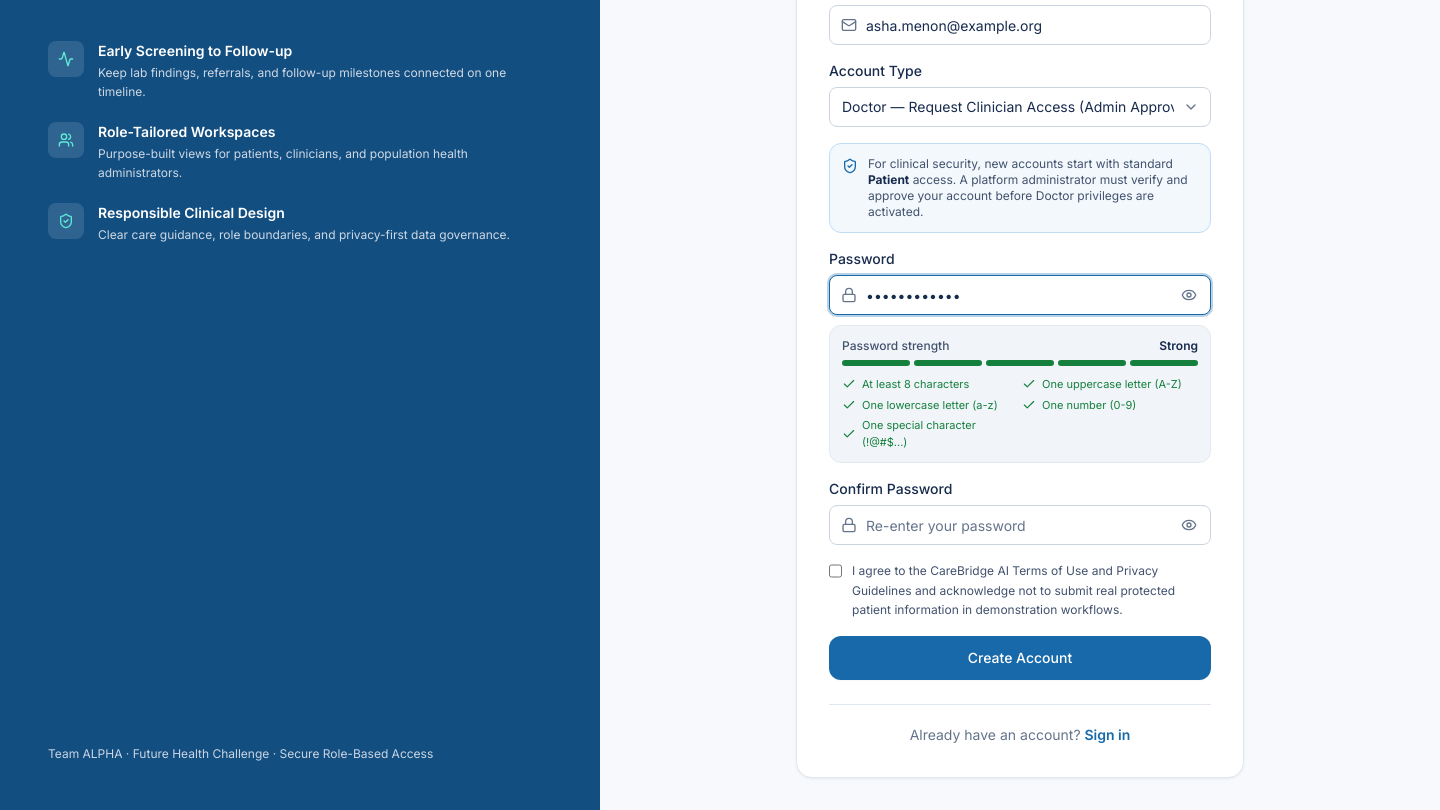
Scenario: CareBridge AI — Frontend Authentication, RBAC & UI Suite › validates registration, shows password strength, excludes ADMIN option, and submits to backend
Earlier steps of the test are not shown.
(page scrolled)
Expected: the text "Strong" is shown, 1159,338 -> 1198,354
Type "MismatchPass!9" into the password field labelled "Confirm Password" at (1020, 525), box 829,505 -> 1211,545
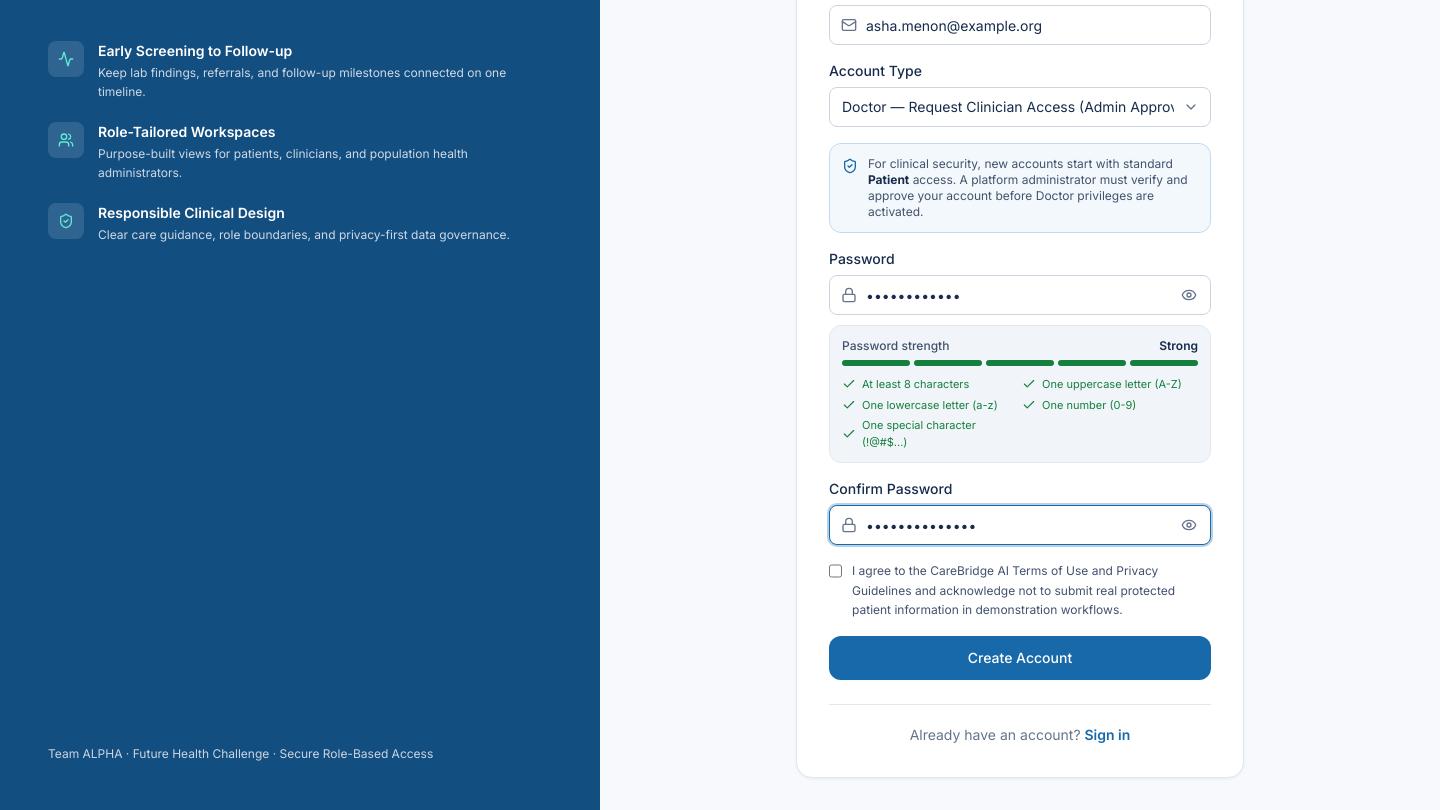
Click the button "Create Account" at (1020, 658), box 829,636 -> 1211,680
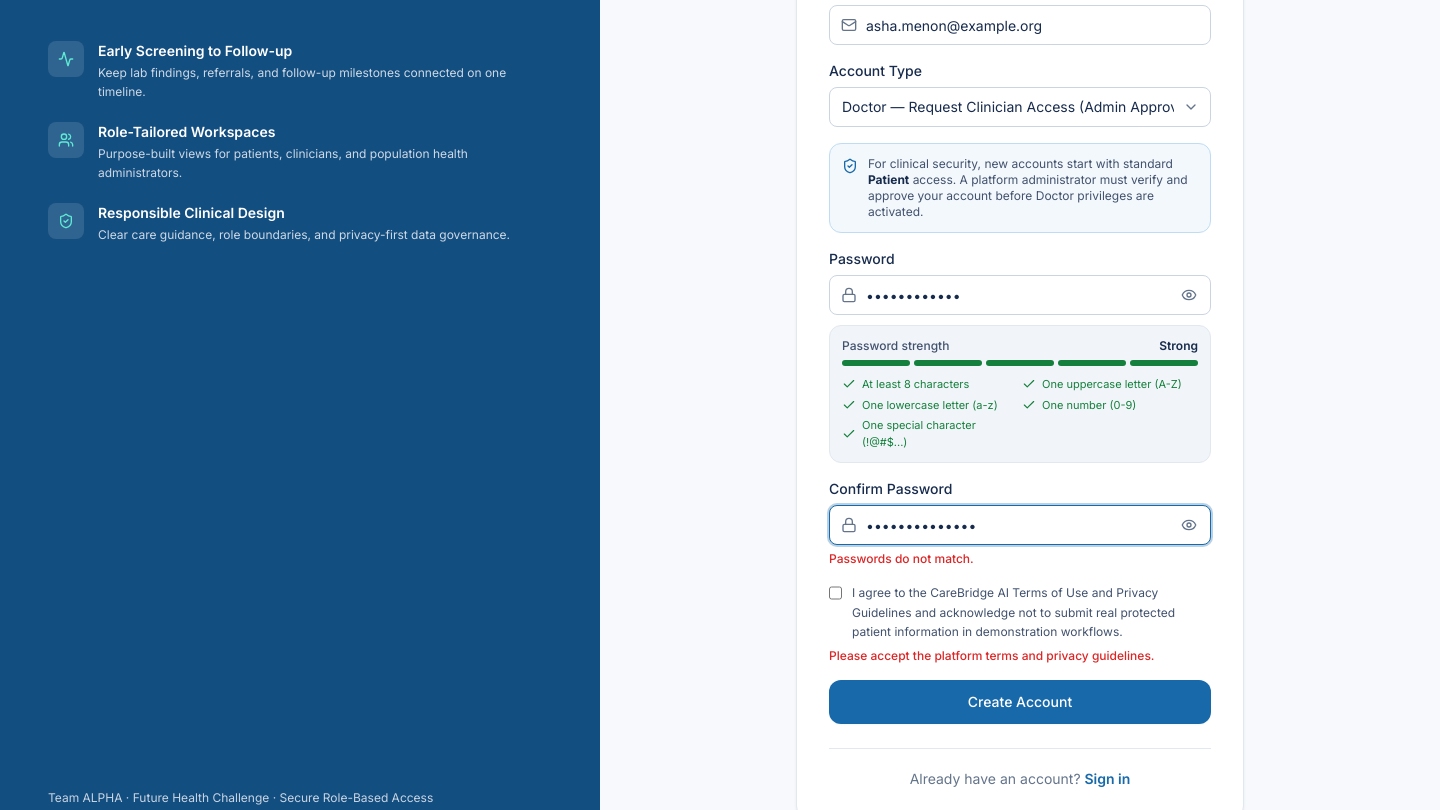
Expected: the text "Passwords do not match." is shown, 829,551 -> 974,566
Type "StrongPass!9" into the password field labelled "Confirm Password" at (1020, 525), box 829,505 -> 1211,545
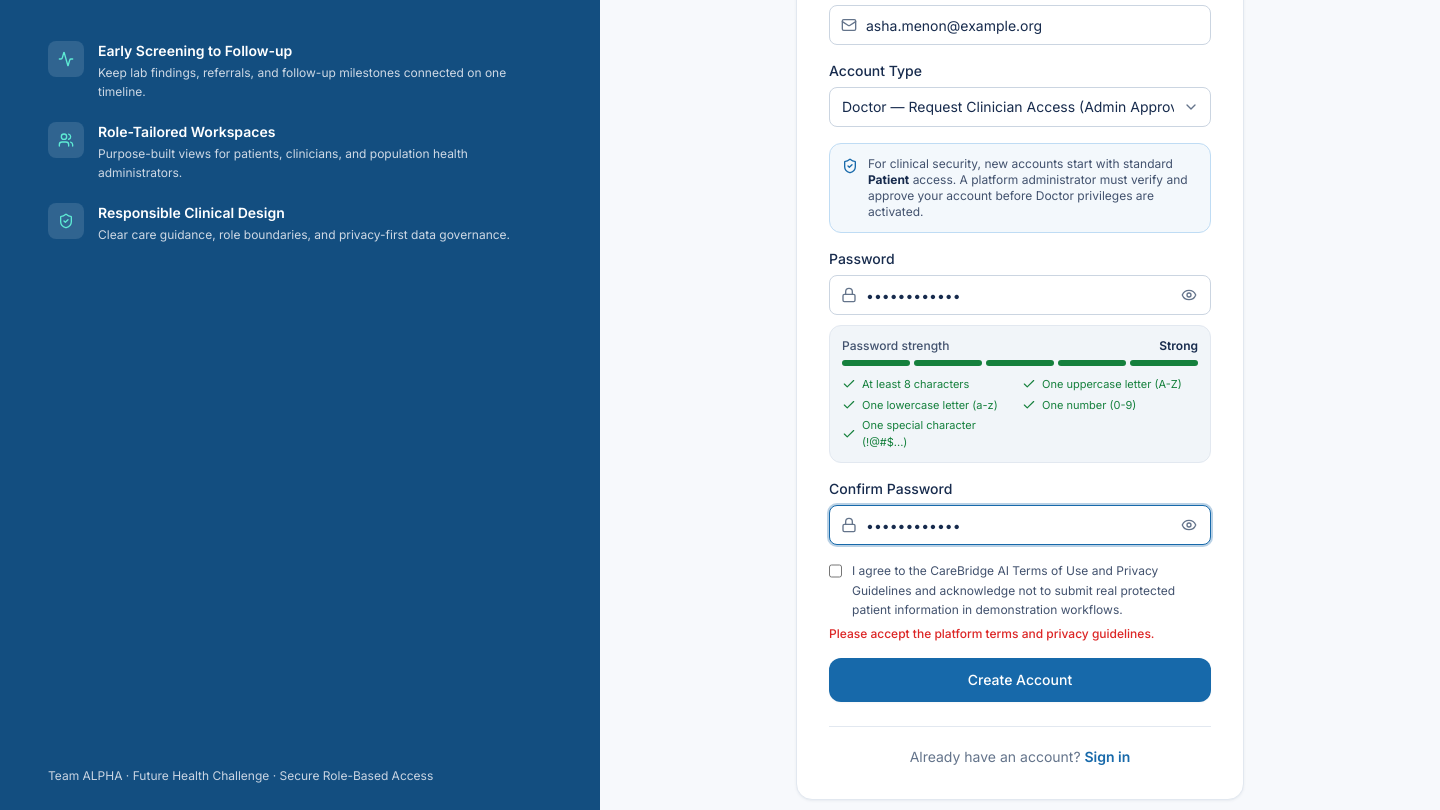
Click the checkbox at (836, 571), box 829,563 -> 842,579
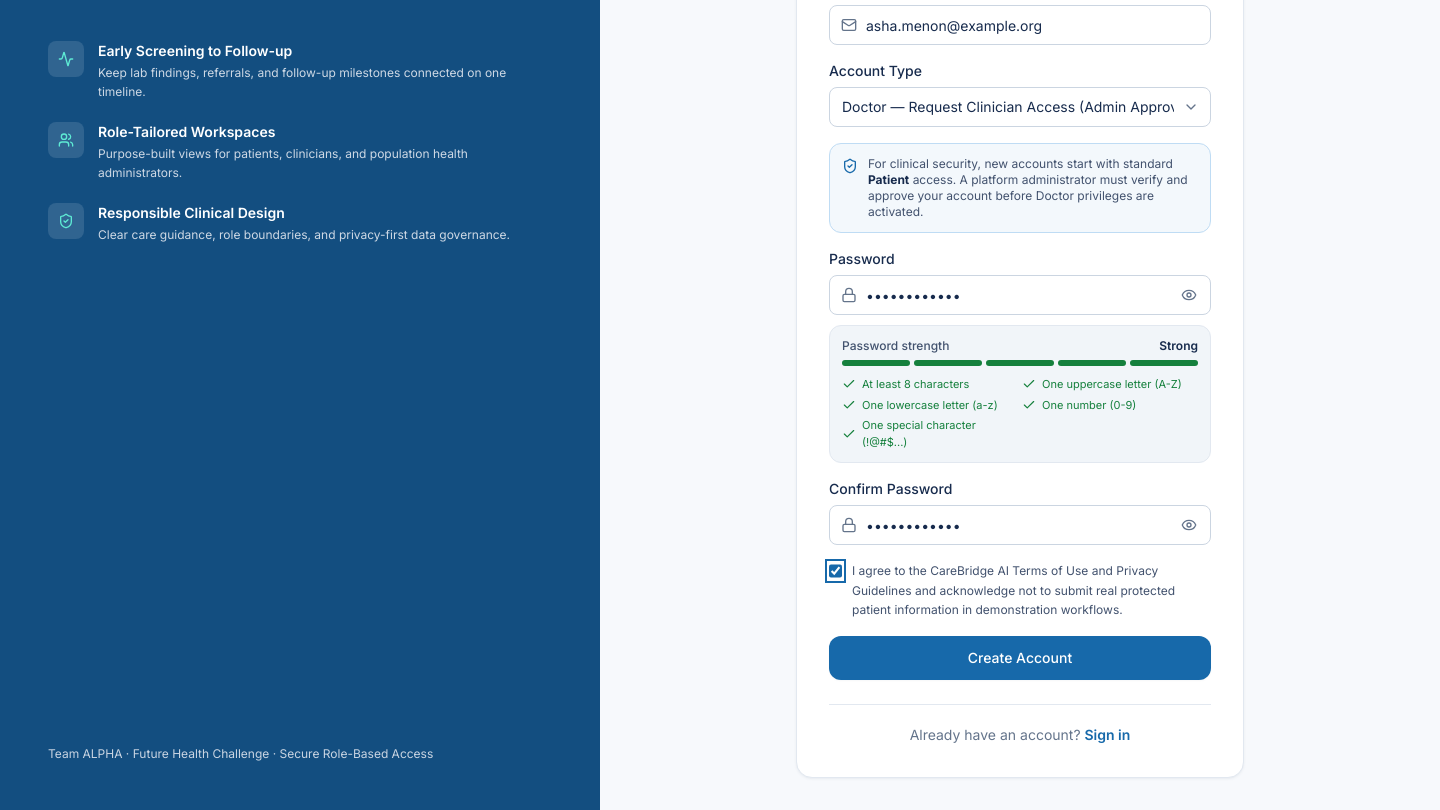
Click the button "Create Account" at (1020, 658), box 829,636 -> 1211,680
(page scrolled)
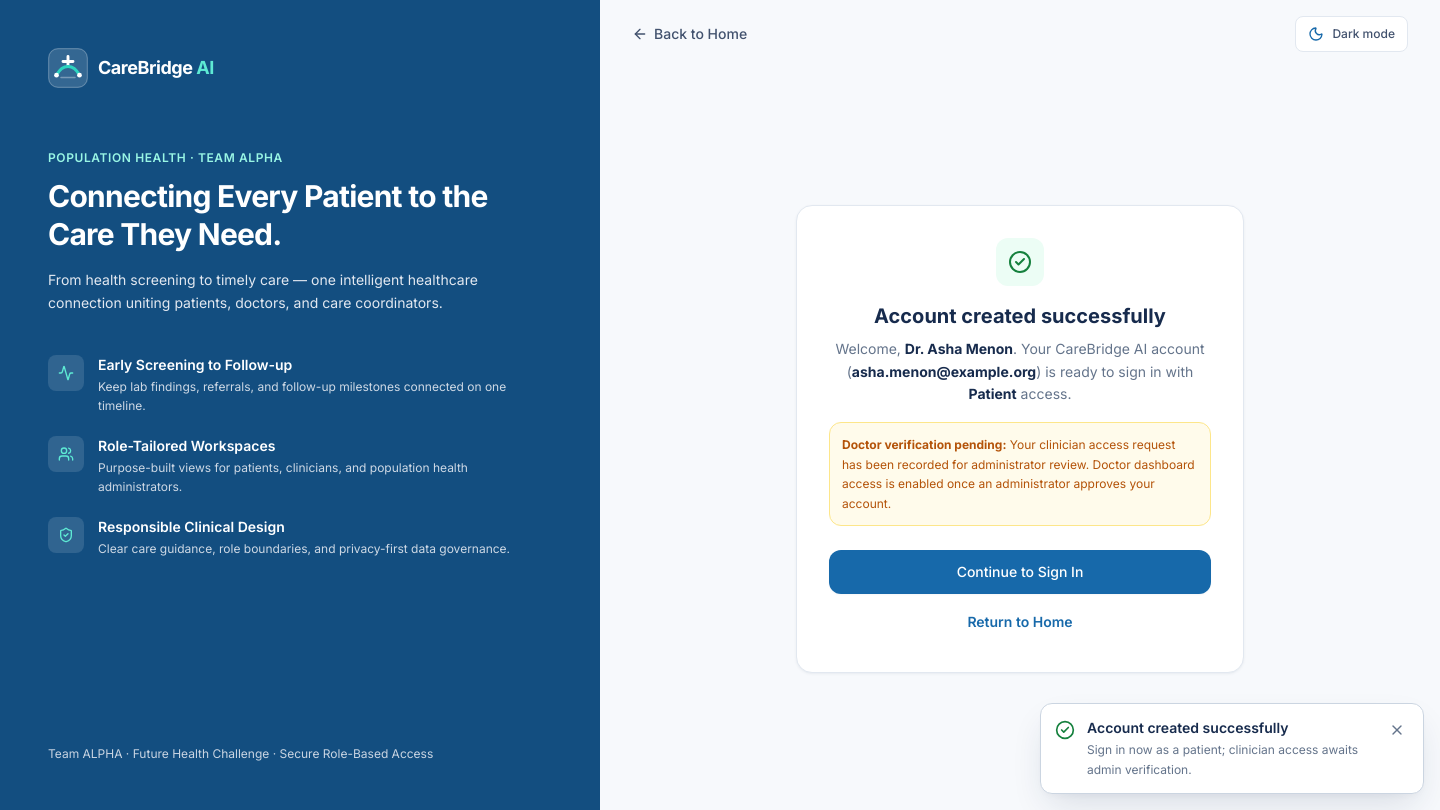
Expected: the heading "Account created successfully" is shown, 874,304 -> 1166,328
Expected: the text "Doctor verification pending:" is shown, 842,437 -> 1006,452
Note: Continue to login pre-fills the registered email
Click the button "Continue to Sign In" at (1020, 572), box 829,550 -> 1211,594
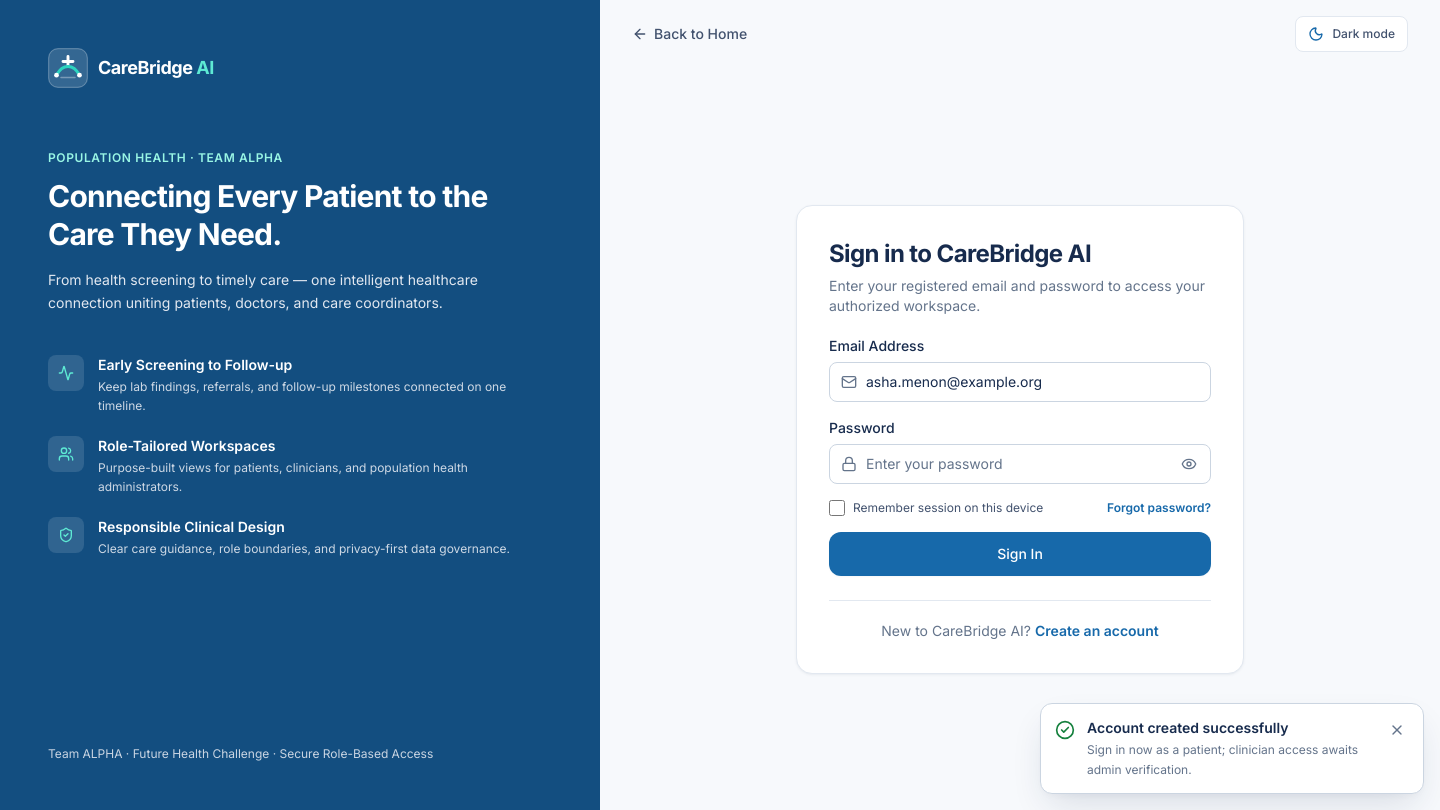
Expected: the field labelled "Email Address" holds "asha.menon@example.org", 829,362 -> 1211,402
